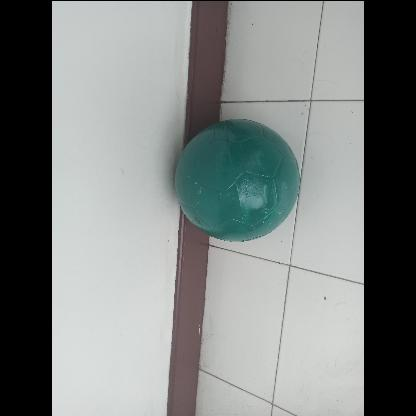green_ball: (173, 114, 299, 240)
